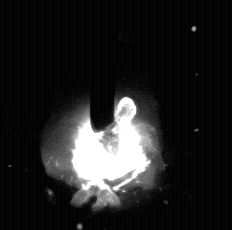arame: (90, 0, 116, 133)
poca: (40, 0, 163, 230)
